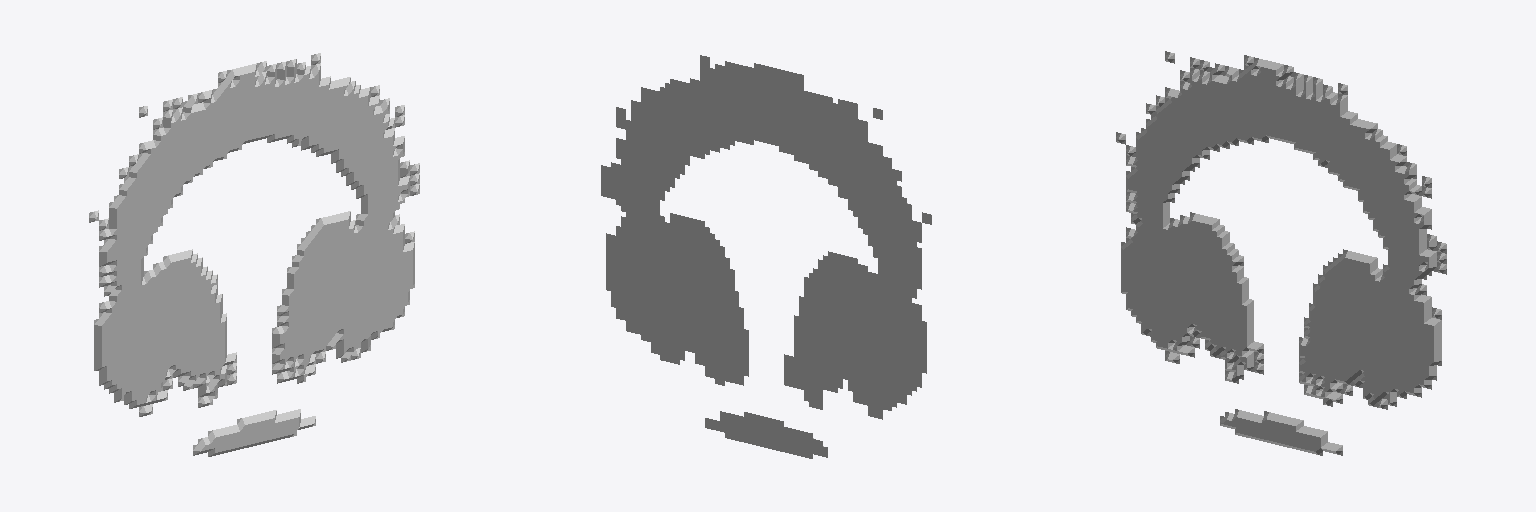
File: headphone.obj
3 renders of one model, left to right at view 1: azimuth 30°, elevation 25°; view 2: azimuth 150°, elevation 25°; view 3: azimuth 330°, elevation 25°, orthographic.
Parts seen in each view (by area): view 1: object 1; view 2: object 1; view 3: object 1.
Boxes of the visible parts, <box> form: object 1: <box>89,53,419,456</box>; object 1: <box>601,55,931,458</box>; object 1: <box>1116,51,1446,455</box>.
Size of the model in its own units: 67 by 74 by 1.